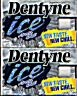grozi_22: (0, 0, 76, 96)
